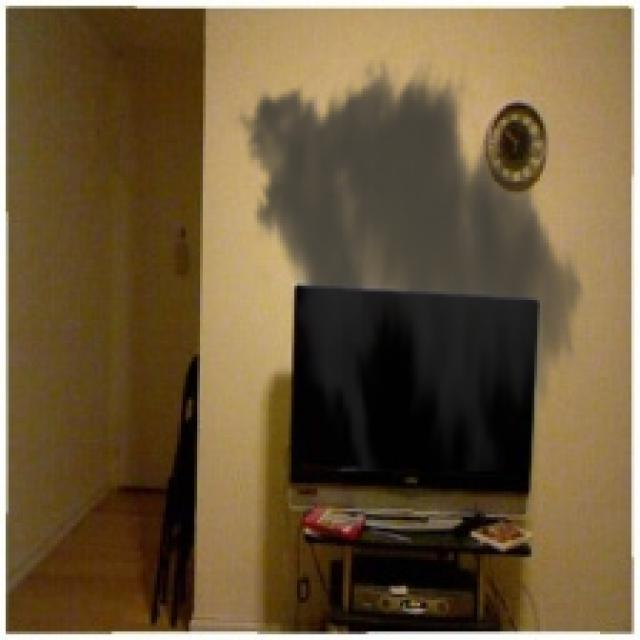smoke: (229, 51, 594, 472)
